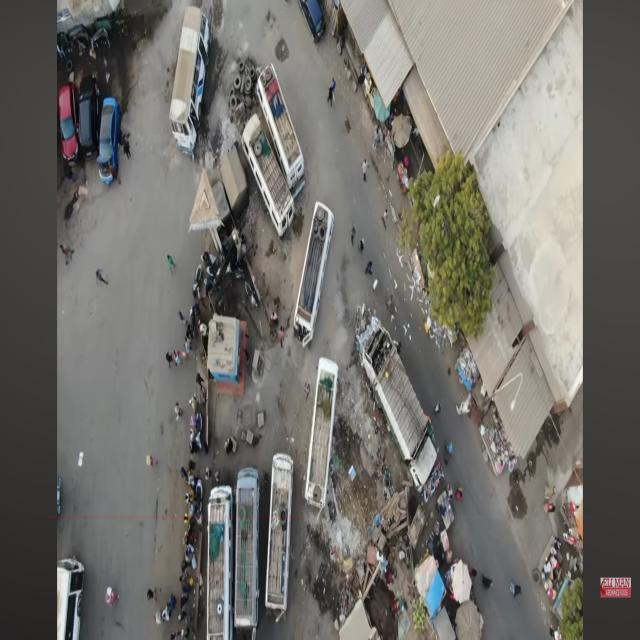bus tata: (171, 6, 212, 155), (59, 558, 85, 640)
camion: (357, 315, 437, 488)
moto: (246, 282, 259, 309), (194, 266, 204, 299)
ndiaga ndiaye: (242, 115, 295, 239), (257, 66, 306, 198), (295, 201, 335, 347), (306, 358, 339, 510), (266, 455, 294, 620), (207, 485, 235, 640), (235, 469, 260, 639)
particulier: (99, 98, 121, 185), (59, 85, 80, 163), (80, 77, 100, 158), (301, 1, 326, 44)
